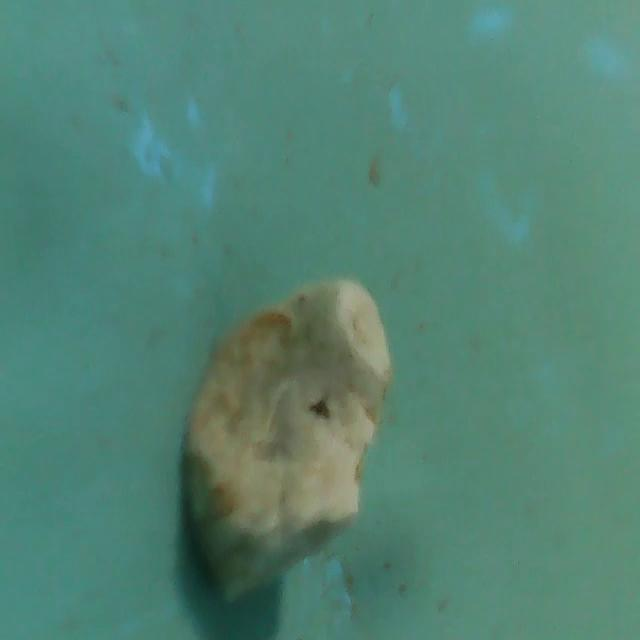rock: (169, 268, 397, 614)
